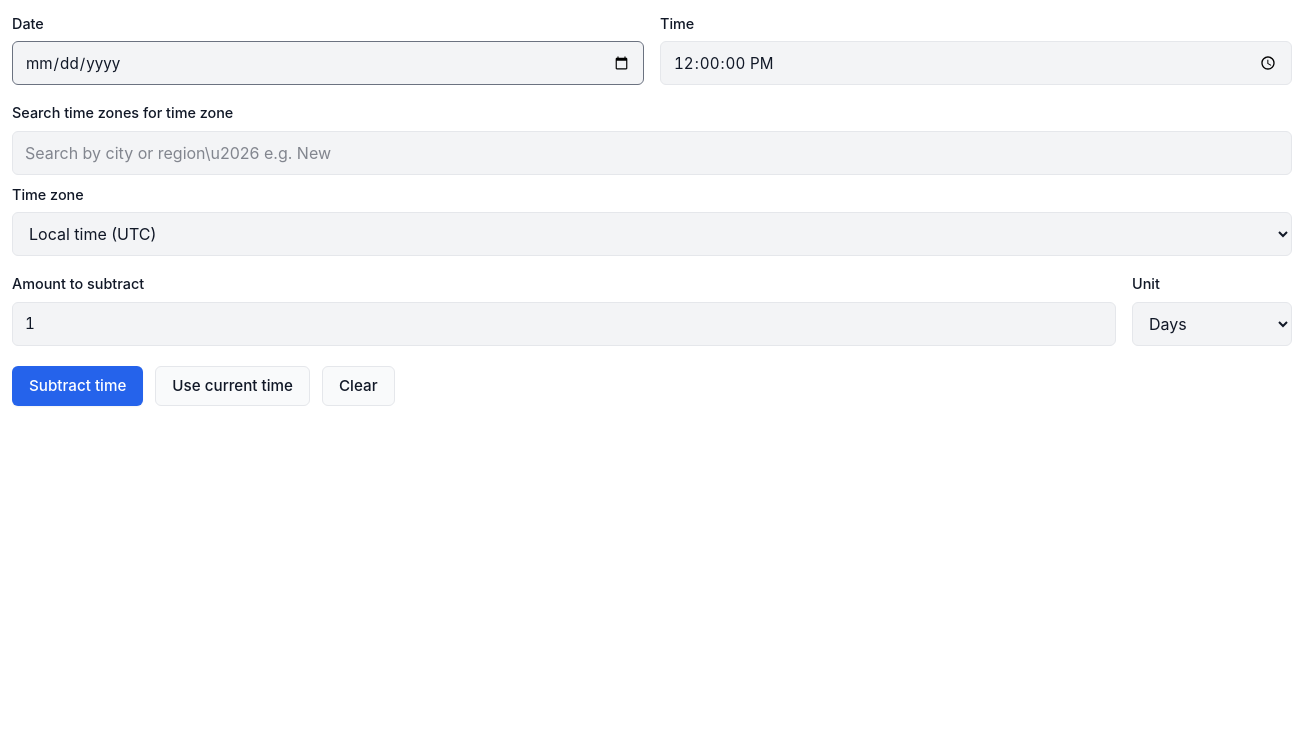
Scenario: Add / Subtract Time Calculator › subtracts 90 days across a year boundary
This screenshot has width=1304, height=732.
Type "2026-01-15" into the date field labelled "Date" at (328, 63), box [12,41,644,85]
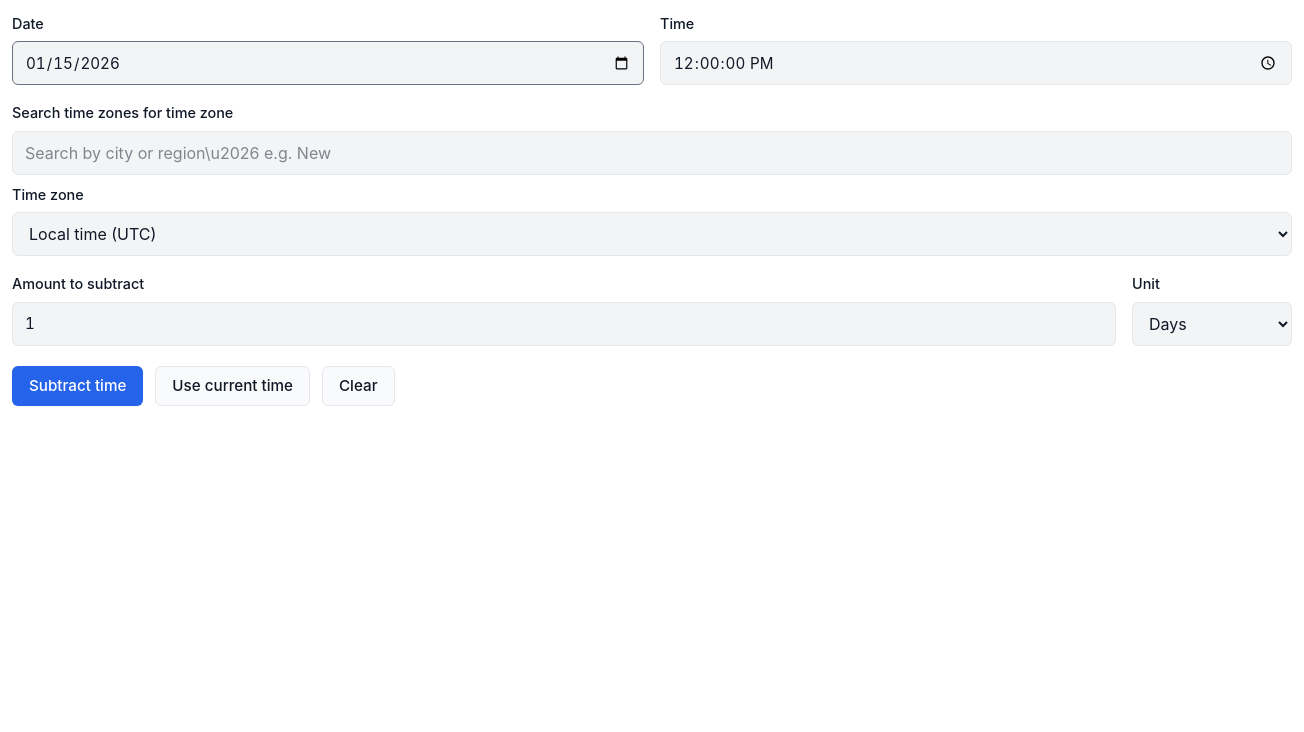
Replace the text in the time field labelled "Time" with "00:00:00" at (976, 63), box [660,41,1292,85]
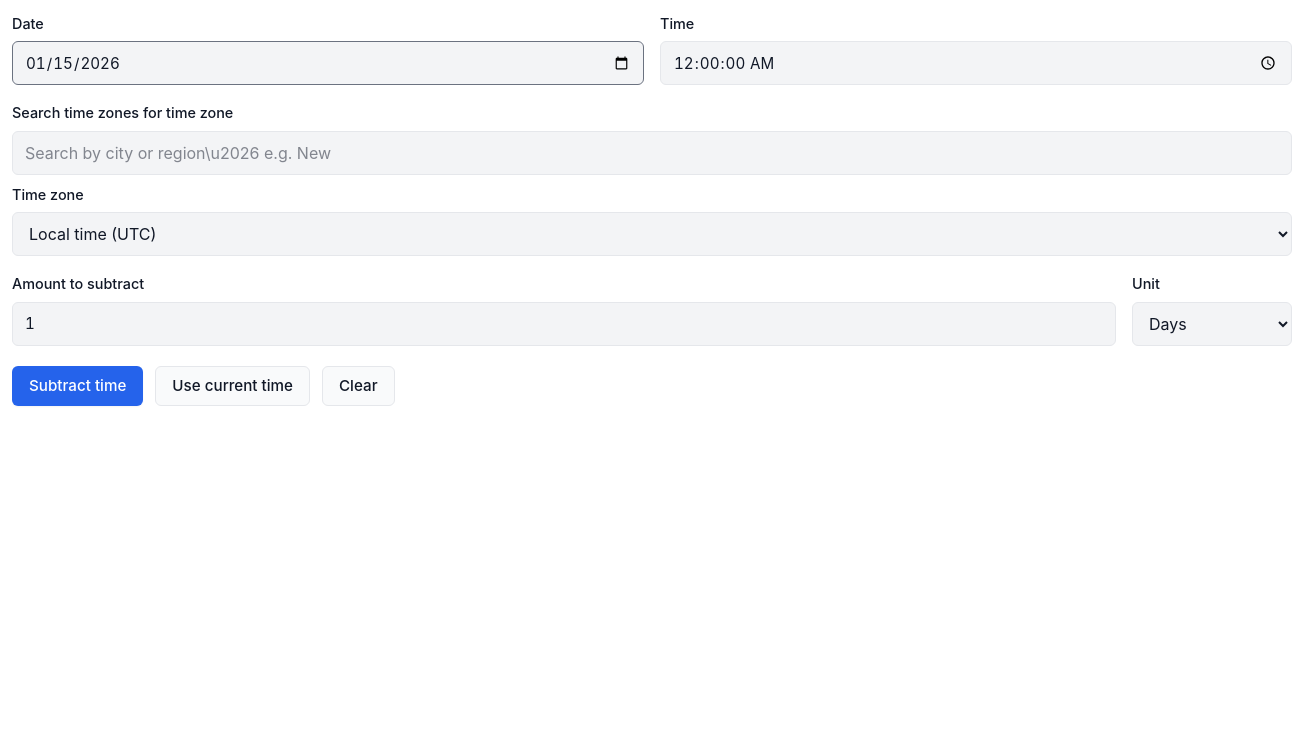
Select "UTC" in the dropdown labelled "Time zone" at (652, 234), box [12,212,1292,256]
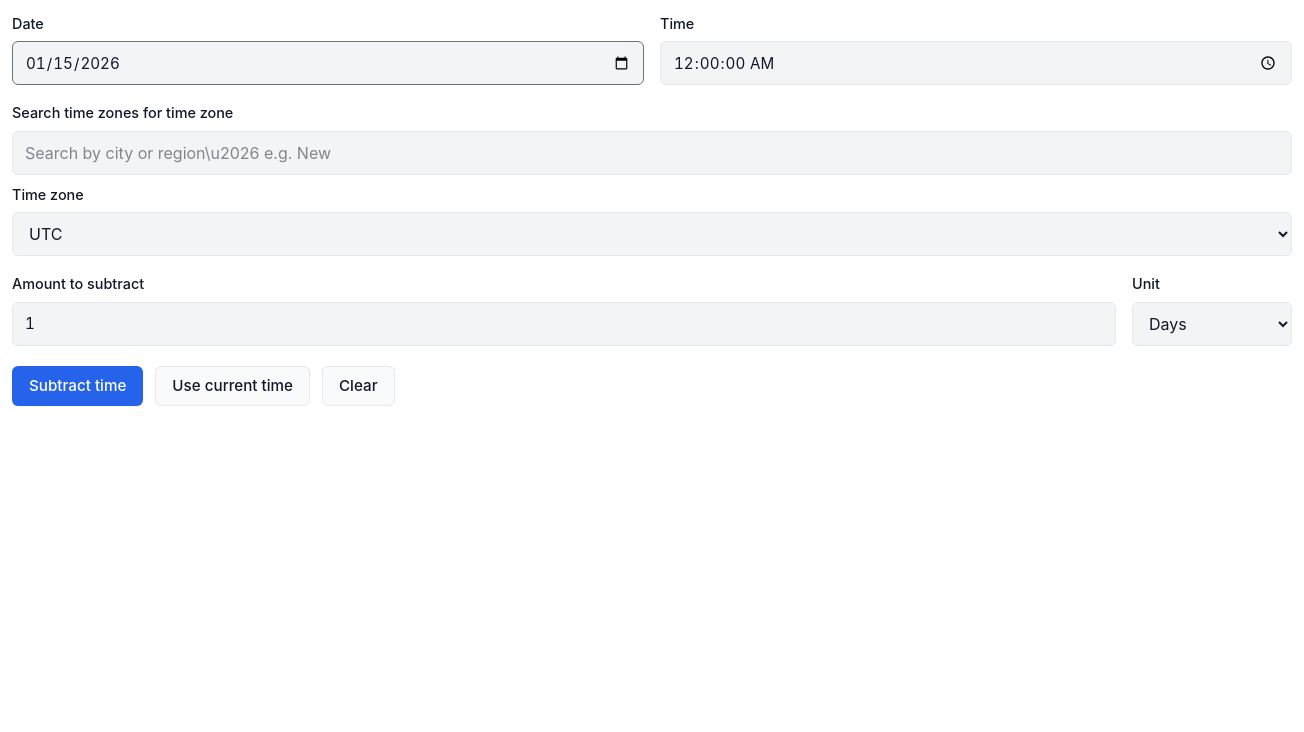
Replace the text in the field labelled "Amount to subtract" with "90" at (564, 324), box [12,302,1116,346]
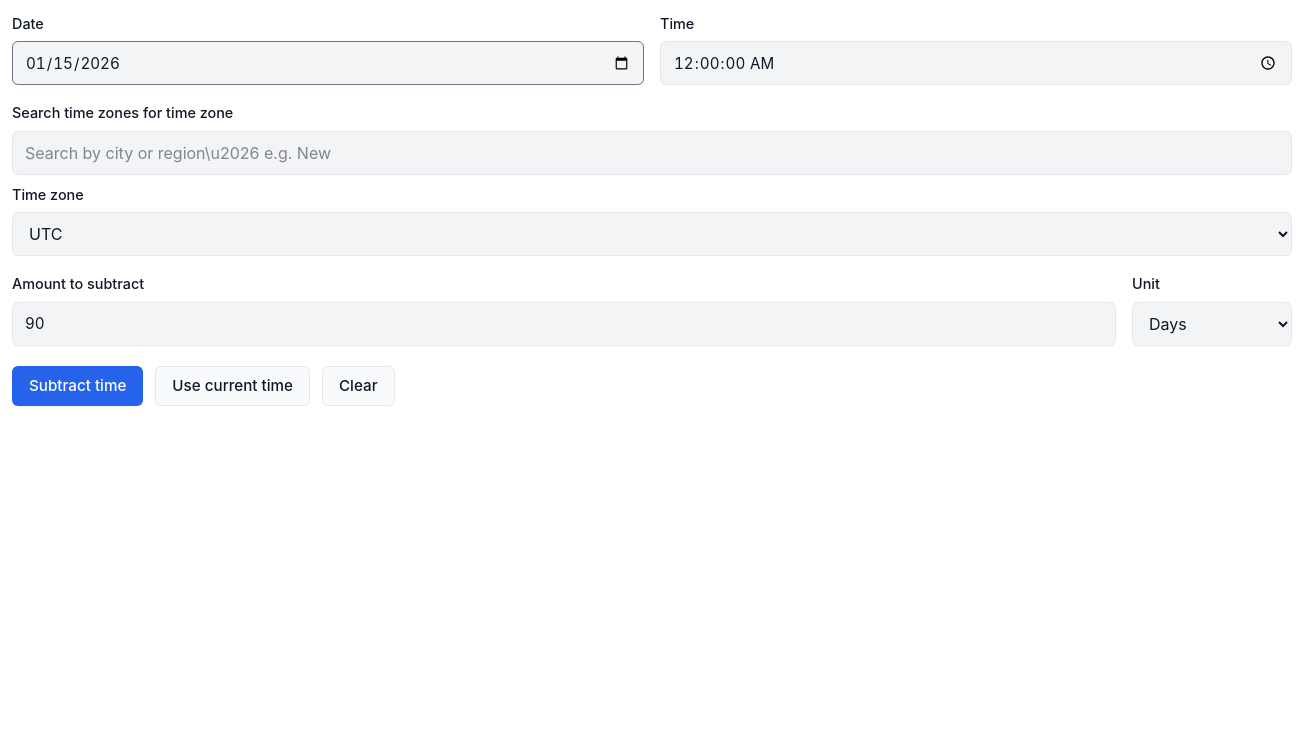
Select "Days" in the dropdown labelled "Unit" at (1212, 324), box [1132,302,1292,346]
Click the button "Subtract time" at (78, 386), box [12,366,143,406]
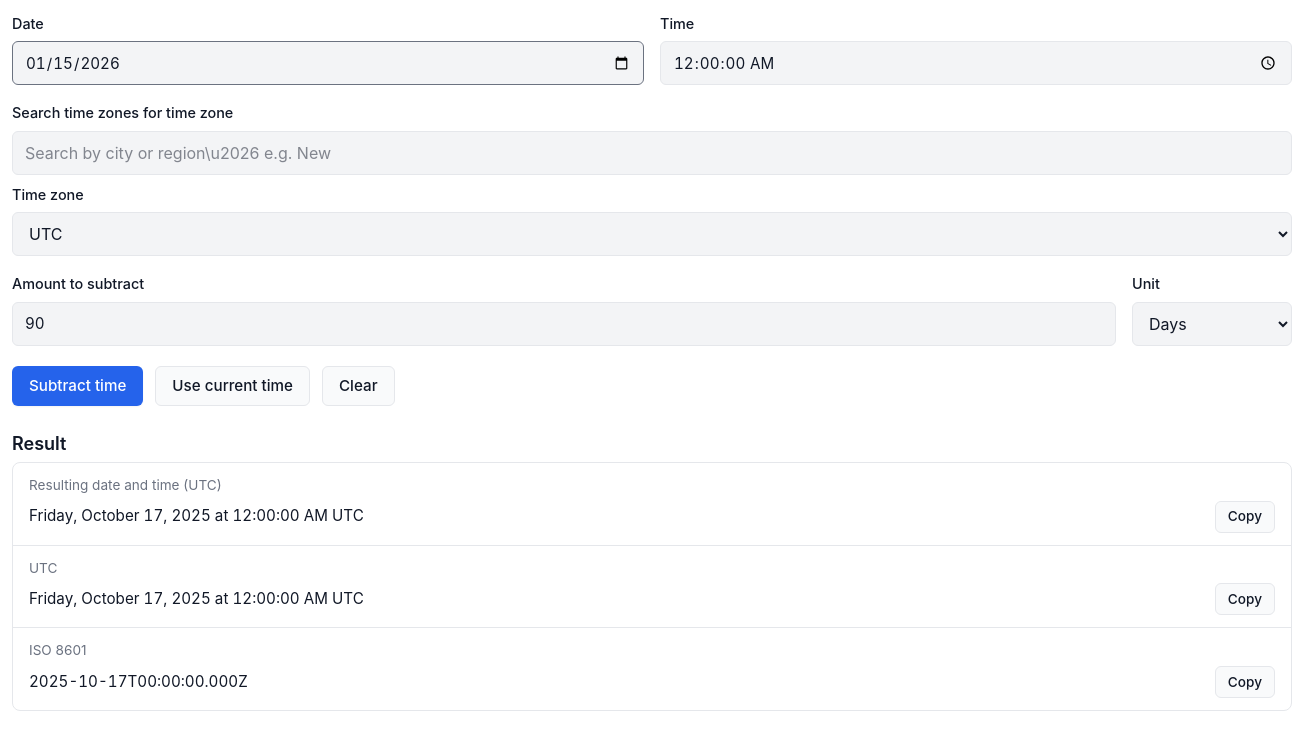
Expected: the text "2025-10-17T00:00:00.000Z" is shown, [29,672,248,691]
